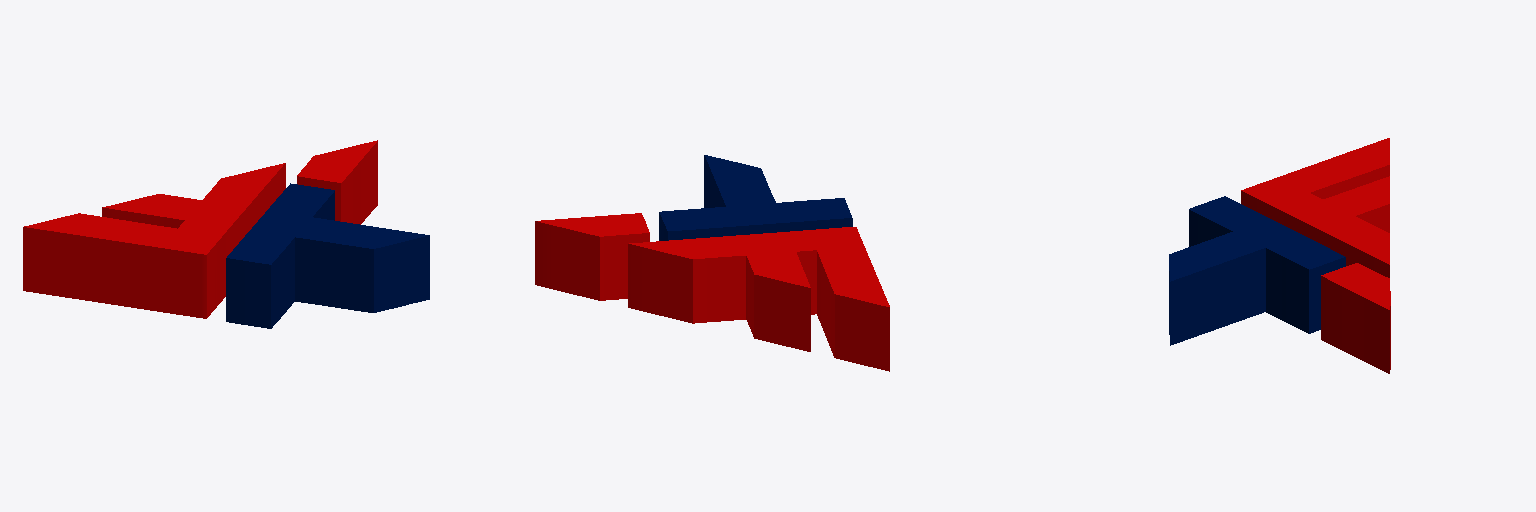
The model's file is wwt.obj.
3 views of the same model, side by side, from view 1: azimuth 30°, elevation 25°; view 2: azimuth 150°, elevation 25°; view 3: azimuth 270°, elevation 25° (orthographic).
Visible parts, largest first — view 1: Curve.004; view 2: Curve.004; view 3: Curve.004.
Part boxes in pixels (bbox=[...]): Curve.004: bbox=[23, 140, 429, 328]; Curve.004: bbox=[535, 155, 889, 371]; Curve.004: bbox=[1169, 138, 1390, 373].
Size of the model in its own units: 0.3872 by 0.0669 by 0.209.